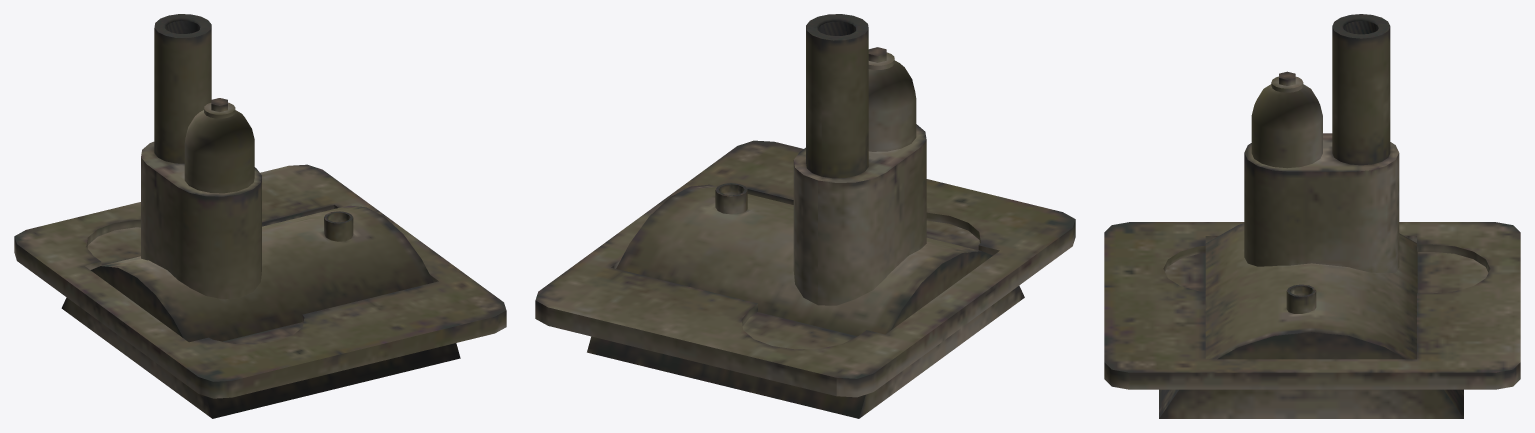
File: Gun_05.glb
3 renders of one model, left to right at view 1: azimuth 30°, elevation 25°; view 2: azimuth 150°, elevation 25°; view 3: azimuth 270°, elevation 25°, orthographic. The views are drawn at different scales.
Parts seen in each view (by area): view 1: set_0_group_0; view 2: set_0_group_0; view 3: set_0_group_0.
Part boxes in pixels (<box>): set_0_group_0: <box>14,14,506,418</box>; set_0_group_0: <box>535,14,1075,418</box>; set_0_group_0: <box>1104,14,1520,418</box>.
Bounding box in the file's own units: 0.484 × 0.4575 × 0.5655.
1 material, 1 textured.
